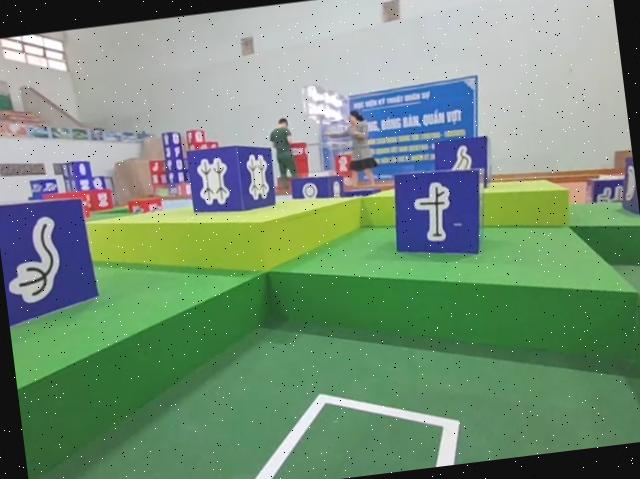R2 Real Blue: (0, 191, 100, 331), (386, 163, 490, 266), (185, 139, 276, 218), (429, 133, 493, 193), (287, 172, 342, 204)
